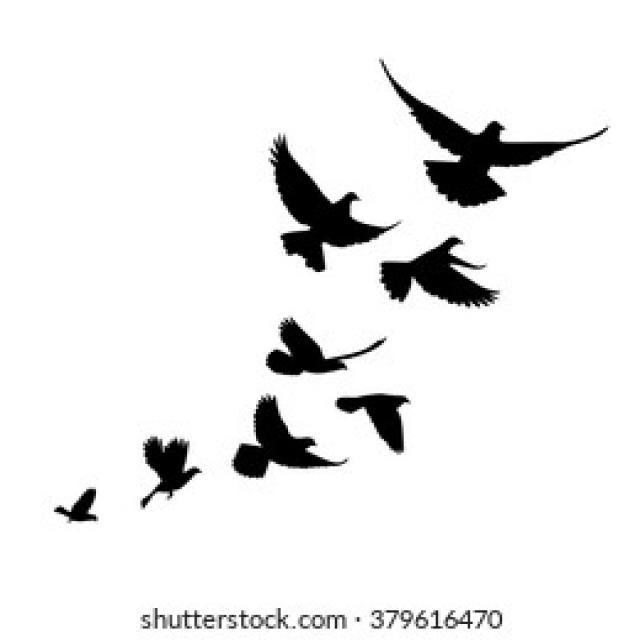bird: (359, 25, 628, 226), (220, 84, 402, 311), (359, 202, 527, 328), (234, 374, 342, 508), (234, 303, 399, 383), (133, 379, 212, 522), (331, 386, 427, 476), (27, 472, 118, 541)
